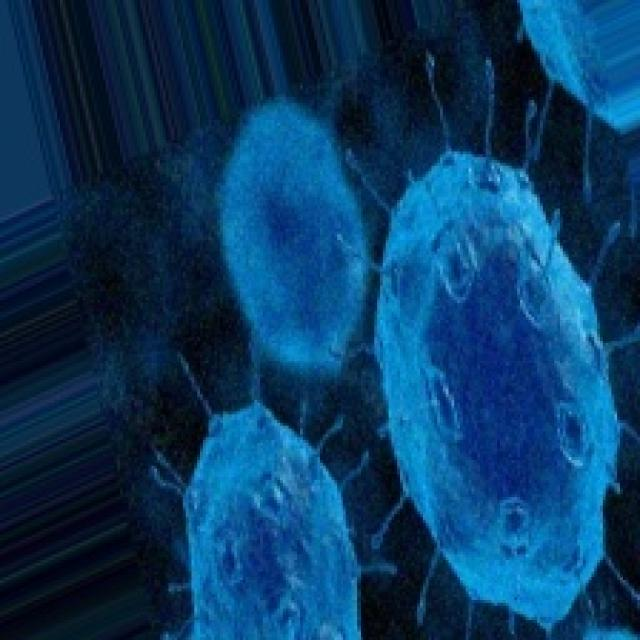Spherical_bacteria: (369, 148, 620, 632), (148, 397, 372, 637)
